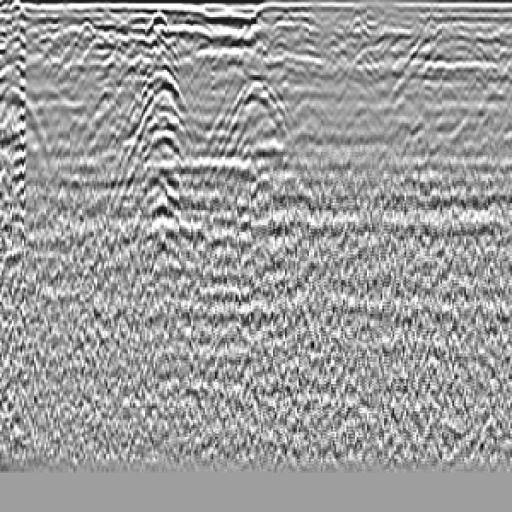metalic: (123, 38, 197, 271)
nonmetalic: (207, 48, 306, 169), (1, 59, 66, 211)
